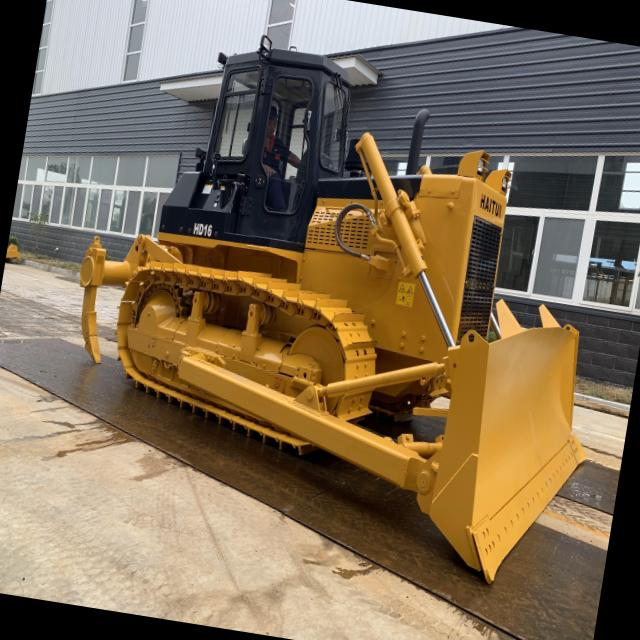Bulldozer: (25, 0, 640, 611)
